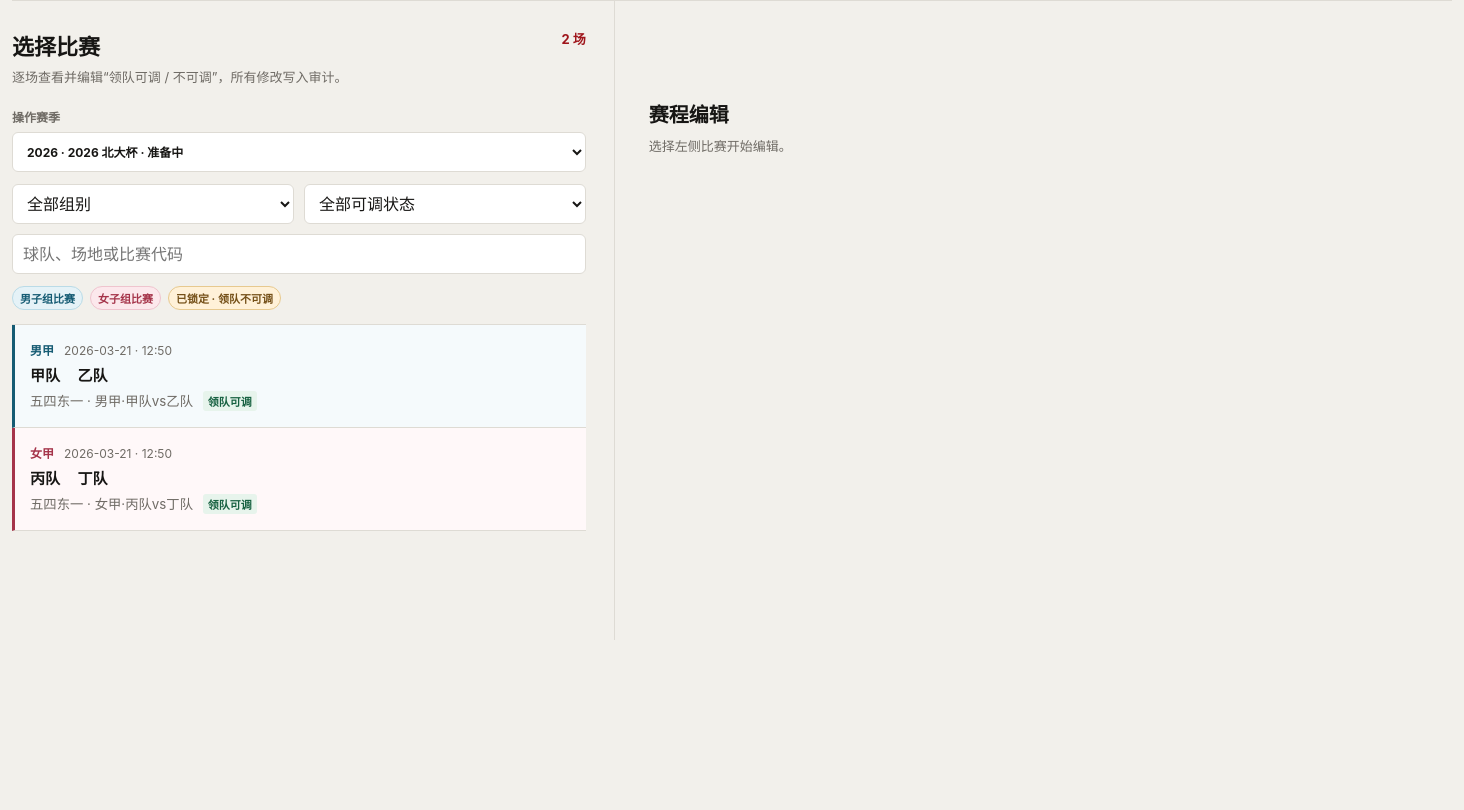
ScheduleEditorPage colors › keeps the newer game selected when an older request resolves late
Click the button "男甲2026-03-21 · 12:50 甲队 乙队 五四东一 · 男甲·甲队vs乙队 领队可调": (98, 350) [12,325,586,428]
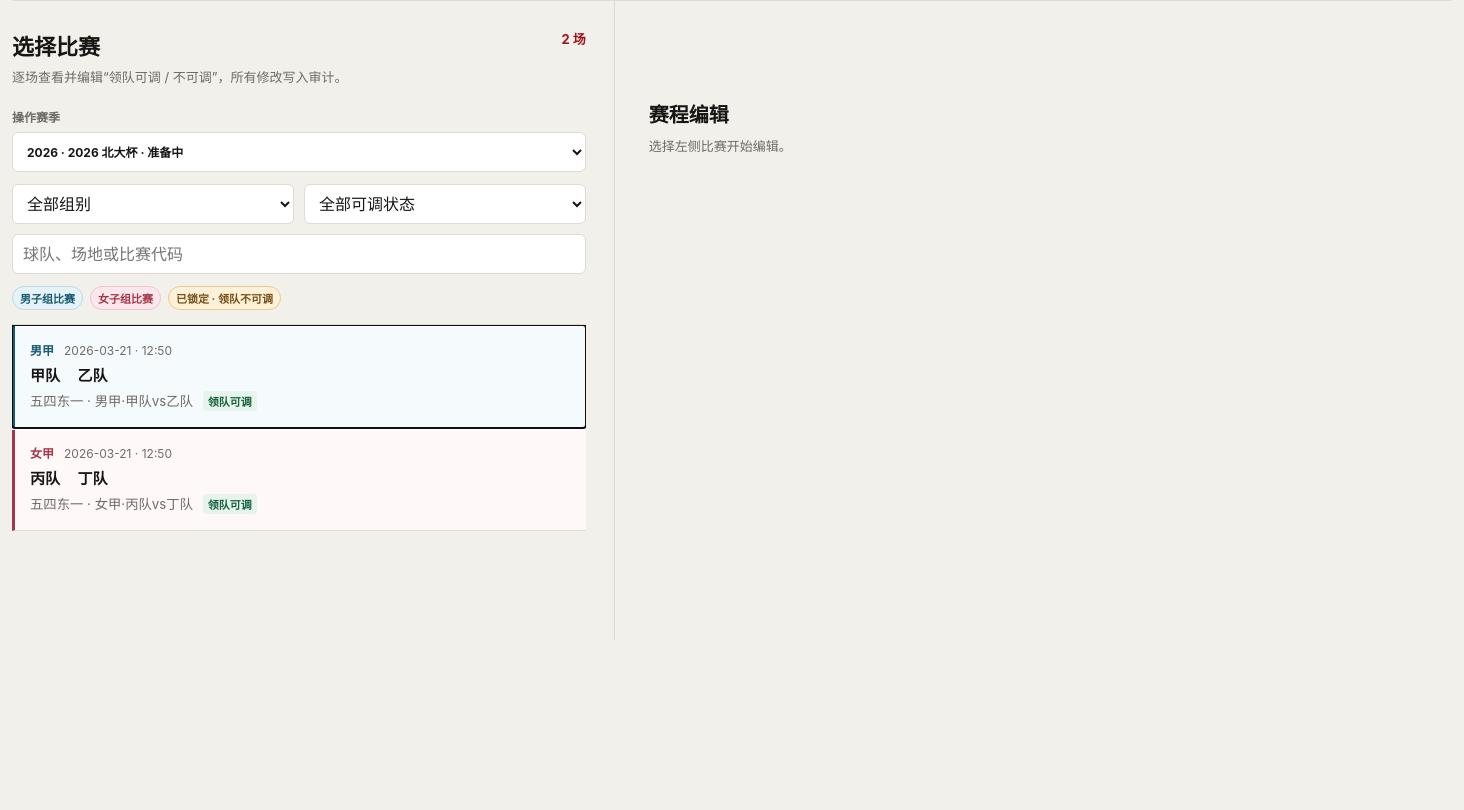
Click the button "女甲2026-03-21 · 12:50 丙队 丁队 五四东一 · 女甲·丙队vs丁队 领队可调": (98, 454) [12,428,586,531]
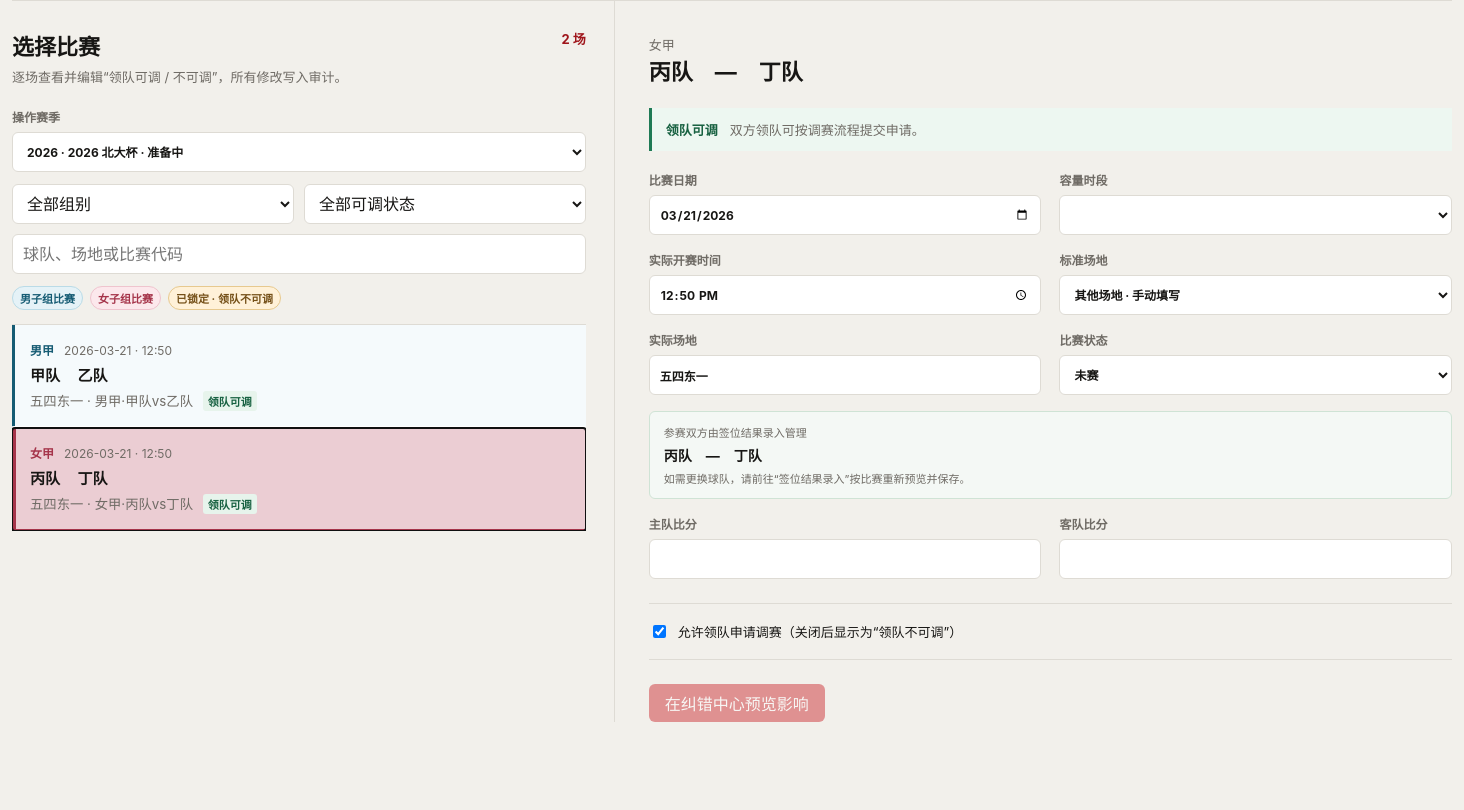
Now the heading "丙队 — 丁队" is shown, box [649,54,803,86]
